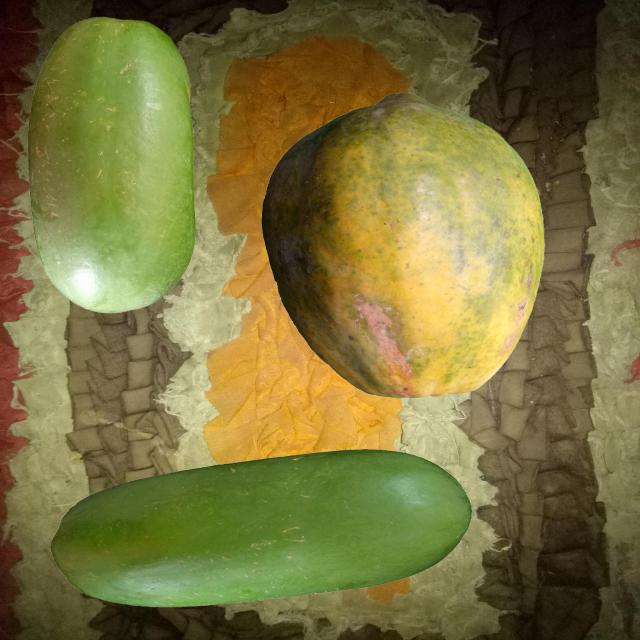Pepaya rippen: (255, 81, 558, 404)
Pepaya unrippen: (55, 442, 473, 615), (25, 19, 206, 320)
